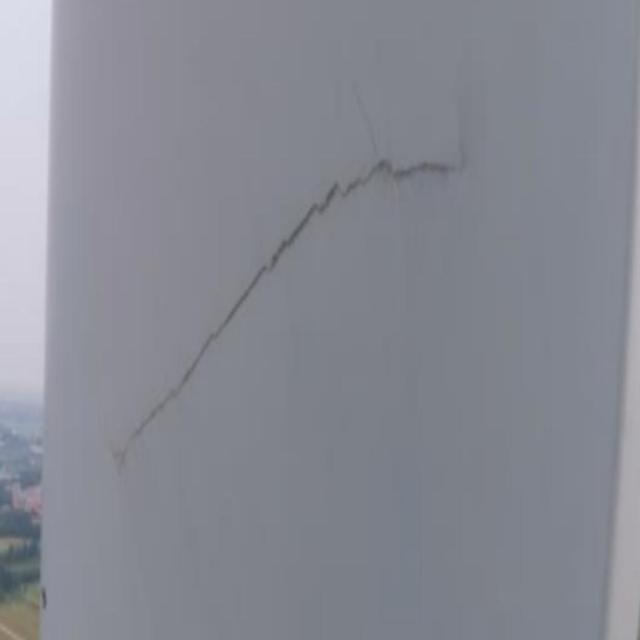crack: (117, 149, 464, 462)
